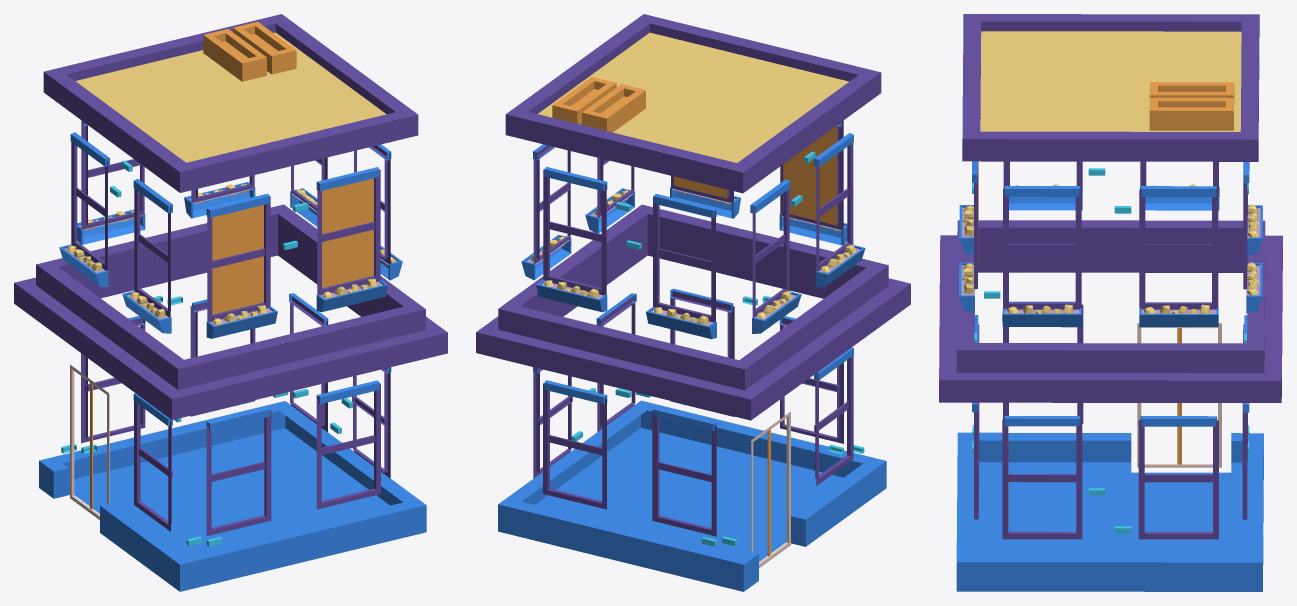
Rendered from Single Building.fbx.
3 views of the same model, side by side, from view 1: azimuth 30°, elevation 25°; view 2: azimuth 150°, elevation 25°; view 3: azimuth 270°, elevation 25° (orthographic). The views are drawn at different scales.
Parts seen in each view (by area): view 1: Single Building; view 2: Single Building; view 3: Single Building.
Boxes of the visible parts, x1,y1,x2,y2 form: Single Building: (14,14,447,591); Single Building: (476,14,910,591); Single Building: (939,14,1282,591).
Bounding box in the file's own units: 596 × 881 × 596.
